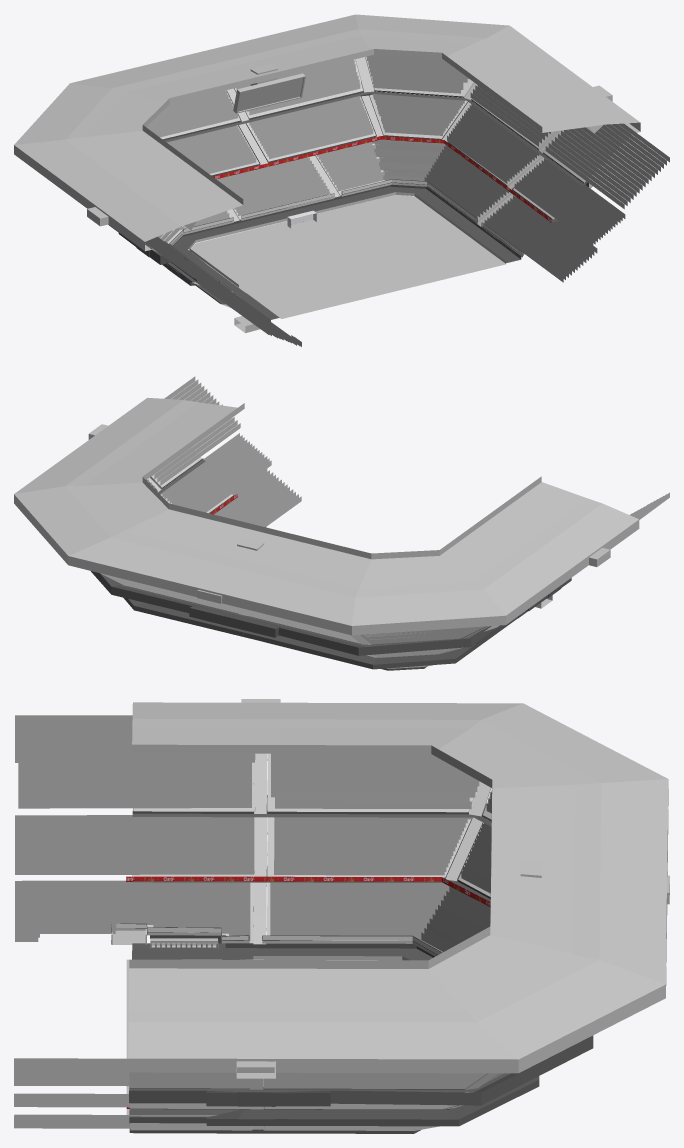
Rendered from Campo.fbx.
The picture shows the model from 3 angles, top to bottom: view 1: azimuth 30°, elevation 25°; view 2: azimuth 150°, elevation 25°; view 3: azimuth 270°, elevation 25°; orthographic projection. The views are drawn at different scales.
Visible parts, largest first — view 1: StadiumTop, Audience_1, Stadium_Field_Marking, Audience_2, Stadium_Base, Stadium_AudienceFloor, Stadium_Field, Stadium_Fence, Stadium_Screen, Stadium_Details, Stadium_Banner; view 2: StadiumTop, Stadium_Base, Audience_1, Stadium_AudienceFloor, Audience_2; view 3: StadiumTop, Audience_1, Stadium_Base, Audience_2, Stadium_AudienceFloor, Stadium_Fence, Stadium_Banner, Stadium_Details.
Boxes of the visible parts, bbox=[...] form: StadiumTop: bbox=[14, 14, 640, 251]; Audience_1: bbox=[145, 54, 669, 346]; Stadium_Field_Marking: bbox=[200, 198, 491, 314]; Audience_2: bbox=[147, 60, 636, 345]; Stadium_Base: bbox=[108, 82, 592, 319]; Stadium_AudienceFloor: bbox=[145, 56, 631, 307]; Stadium_Field: bbox=[191, 194, 505, 318]; Stadium_Fence: bbox=[169, 179, 523, 333]; Stadium_Screen: bbox=[233, 64, 305, 113]; Stadium_Details: bbox=[189, 130, 563, 324]; Stadium_Banner: bbox=[183, 136, 551, 259]; StadiumTop: bbox=[14, 397, 639, 644]; Stadium_Base: bbox=[91, 458, 571, 670]; Audience_1: bbox=[147, 376, 669, 655]; Stadium_AudienceFloor: bbox=[101, 448, 485, 668]; Audience_2: bbox=[160, 423, 654, 654]; StadiumTop: bbox=[128, 699, 669, 1089]; Audience_1: bbox=[14, 715, 491, 1127]; Stadium_Base: bbox=[129, 795, 593, 1133]; Audience_2: bbox=[14, 743, 491, 1128]; Stadium_AudienceFloor: bbox=[129, 753, 504, 1130]; Stadium_Fence: bbox=[111, 923, 442, 1130]; Stadium_Banner: bbox=[126, 876, 490, 1108]; Stadium_Details: bbox=[147, 754, 409, 1130].
Size of the model in its own units: 14691 by 3525 by 11060.
